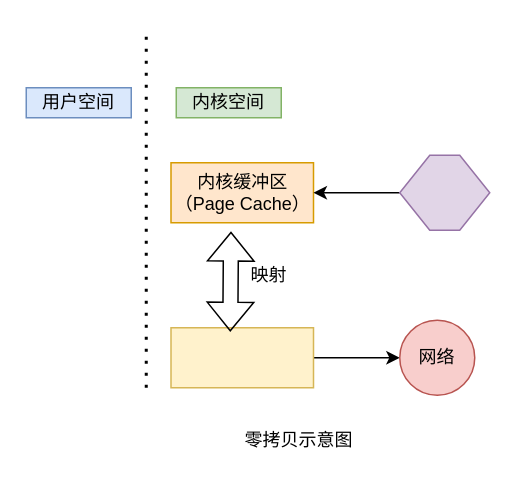
The diagram is 516 pixels wide and 488 high, and some of its shapes have lost their labels. Each missing label, with the centre of its shape:
Socket缓冲区: [242,357]
磁盘: [444,192]
